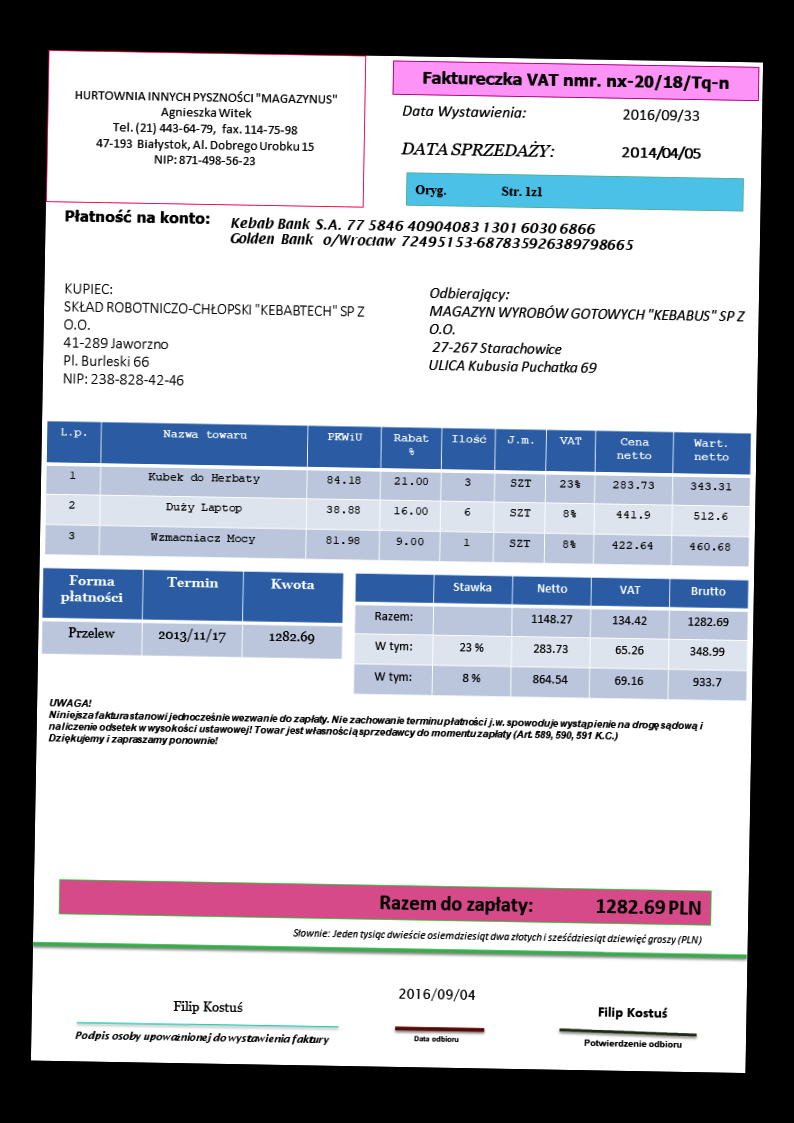Table: (43, 417, 753, 570), (351, 571, 750, 704), (40, 567, 344, 661)
TextBox: (45, 693, 707, 757), (59, 277, 368, 395), (425, 283, 750, 382), (68, 86, 340, 172), (226, 214, 637, 256), (376, 887, 704, 921), (288, 922, 703, 948), (417, 68, 731, 94), (72, 1028, 335, 1049), (398, 135, 556, 162), (58, 205, 211, 229), (410, 178, 545, 203), (397, 98, 527, 122), (617, 140, 704, 164), (396, 980, 480, 1004), (169, 995, 244, 1017), (581, 1035, 684, 1051), (593, 1001, 674, 1021), (619, 106, 702, 124), (407, 1030, 464, 1046)
